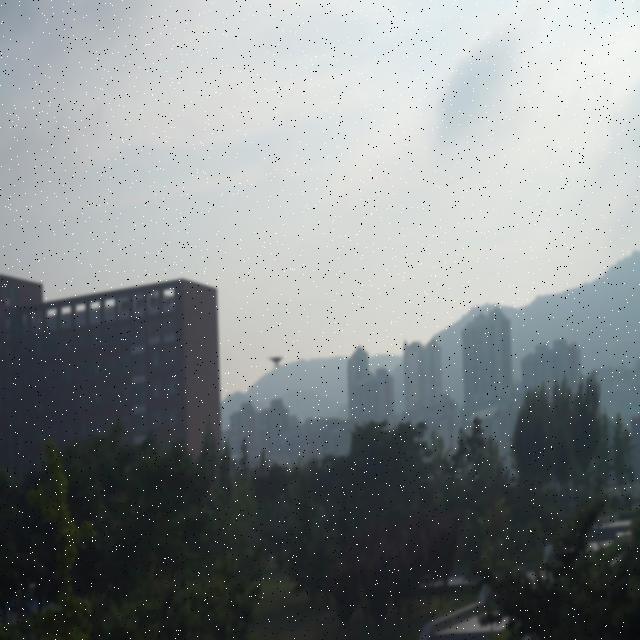UAV: (267, 356, 285, 368)
